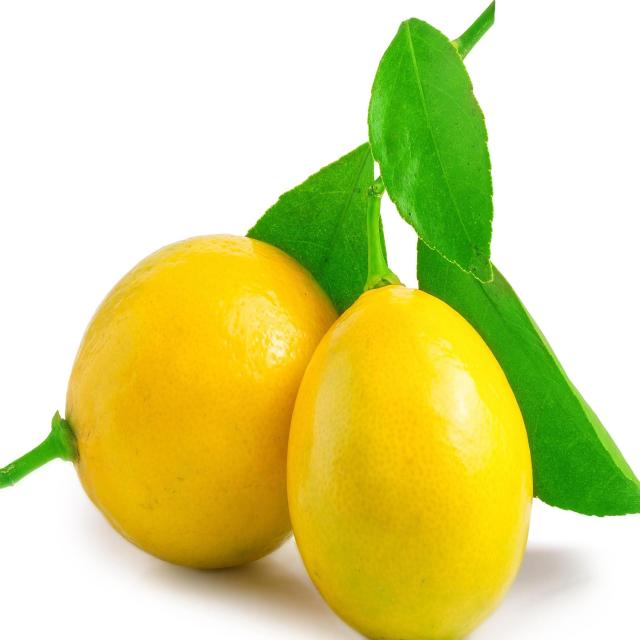lemon: (277, 275, 537, 640)
